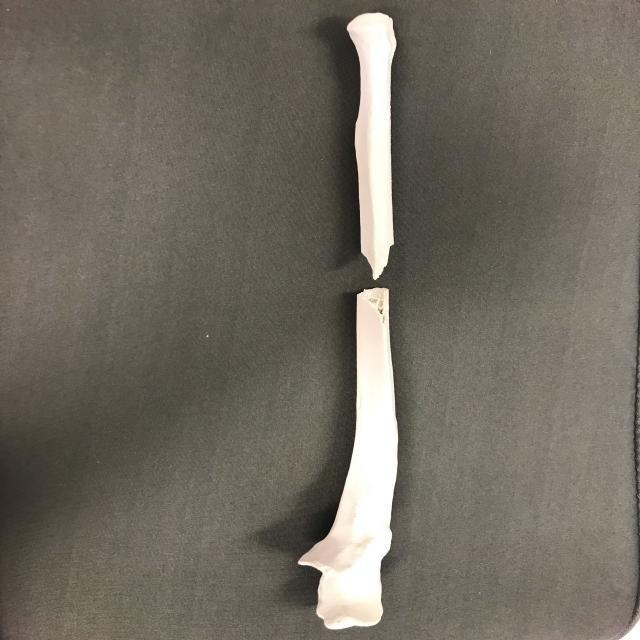bone: (286, 282, 404, 634), (331, 8, 406, 280)
